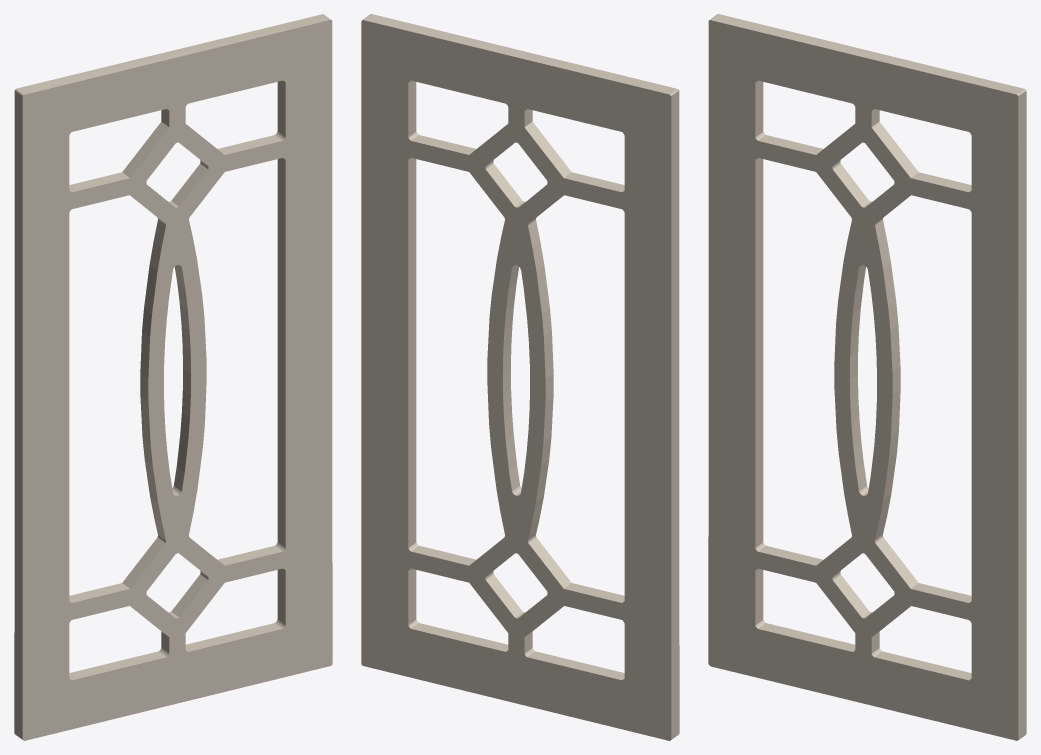
File: nrd-cam-107.glb
The picture shows the model from 3 angles, left to right: view 1: azimuth 30°, elevation 25°; view 2: azimuth 150°, elevation 25°; view 3: azimuth 330°, elevation 25°; orthographic projection.
Parts seen in each view (by area): view 1: NRD CAM 107; view 2: NRD CAM 107; view 3: NRD CAM 107.
Boxes of the visible parts, <box> form: NRD CAM 107: <box>14,14,332,740</box>; NRD CAM 107: <box>361,14,679,740</box>; NRD CAM 107: <box>708,14,1026,740</box>.
Bounding box in the file's own units: 0.3989 × 0.7949 × 0.018.
